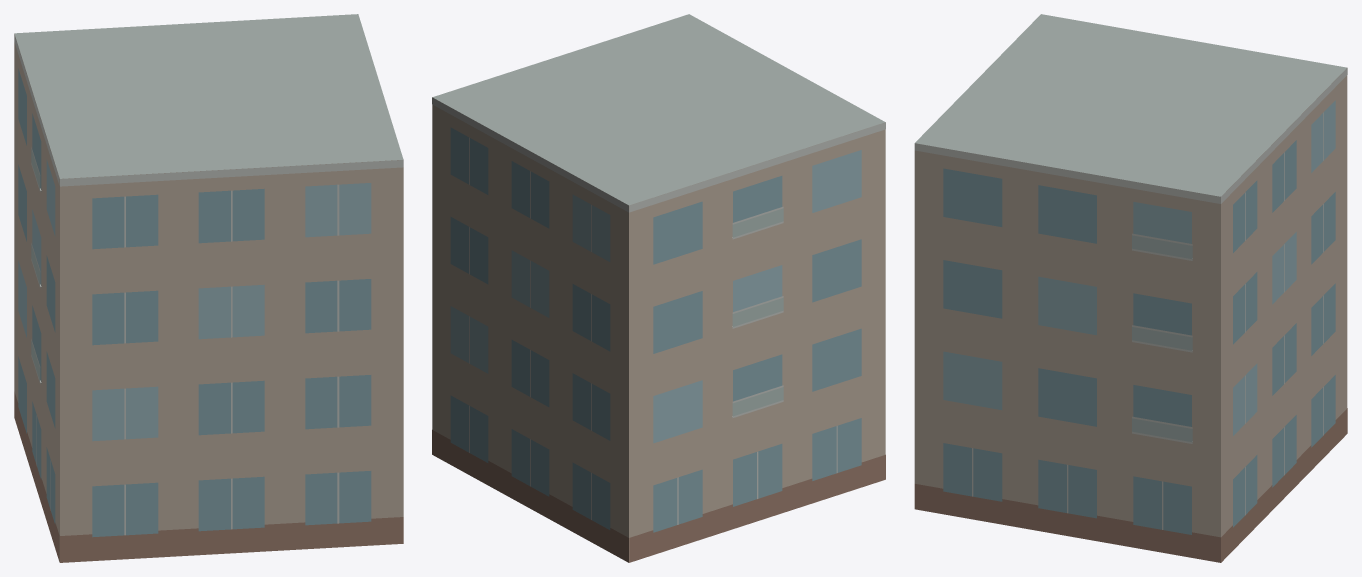
File: residential-27b0066b-00ea-4465-8e1b-182bac6bd155.glb
3 renders of one model, left to right at view 1: azimuth 30°, elevation 25°; view 2: azimuth 150°, elevation 25°; view 3: azimuth 270°, elevation 25°, orthographic. The views are drawn at different scales.
Visible parts, largest first — view 1: residential-27b0066b-00ea-4465-8e1b-182bac6bd155.tmp; view 2: residential-27b0066b-00ea-4465-8e1b-182bac6bd155.tmp; view 3: residential-27b0066b-00ea-4465-8e1b-182bac6bd155.tmp.
Part boxes in pixels (<box>): residential-27b0066b-00ea-4465-8e1b-182bac6bd155.tmp: <box>14,14,403,562</box>; residential-27b0066b-00ea-4465-8e1b-182bac6bd155.tmp: <box>432,14,885,562</box>; residential-27b0066b-00ea-4465-8e1b-182bac6bd155.tmp: <box>914,14,1347,562</box>.
Bounding box in the file's own units: 13.07 × 12.2 × 13.08.
